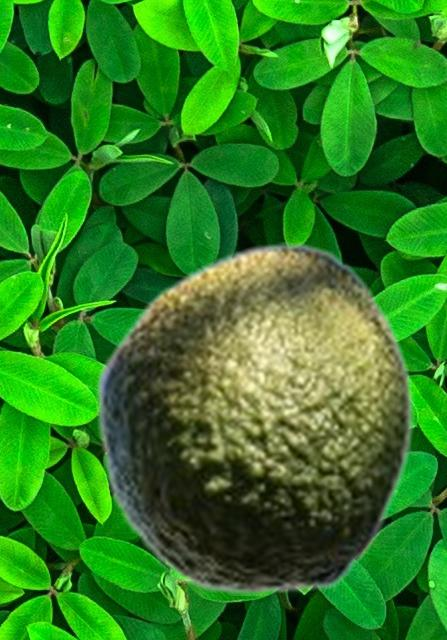avocado: (94, 242, 413, 594)
